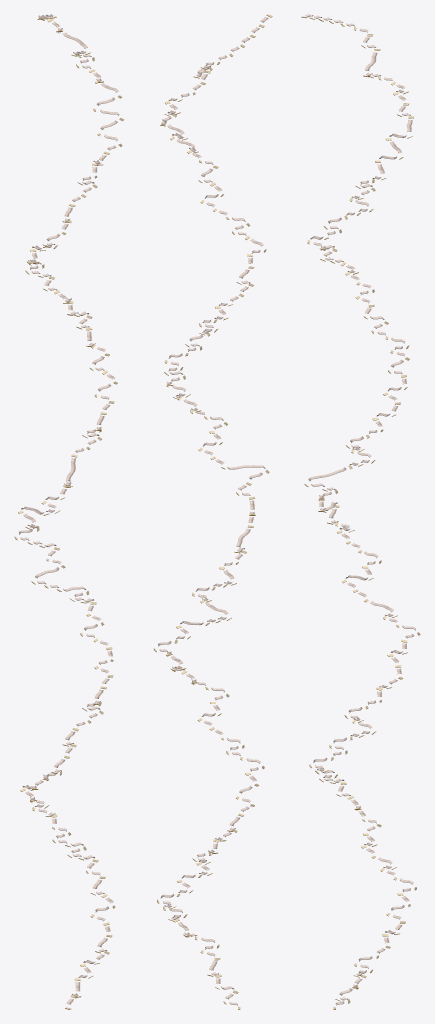
The model's file is C-route-v027-15.glb.
The picture shows the model from 3 angles, left to right: view 1: azimuth 30°, elevation 25°; view 2: azimuth 150°, elevation 25°; view 3: azimuth 330°, elevation 25°; orthographic projection.
Bounding box in the file's own units: 0.4123 × 4.32 × 0.3637.
Materials: 5 (1 with a texture image).
